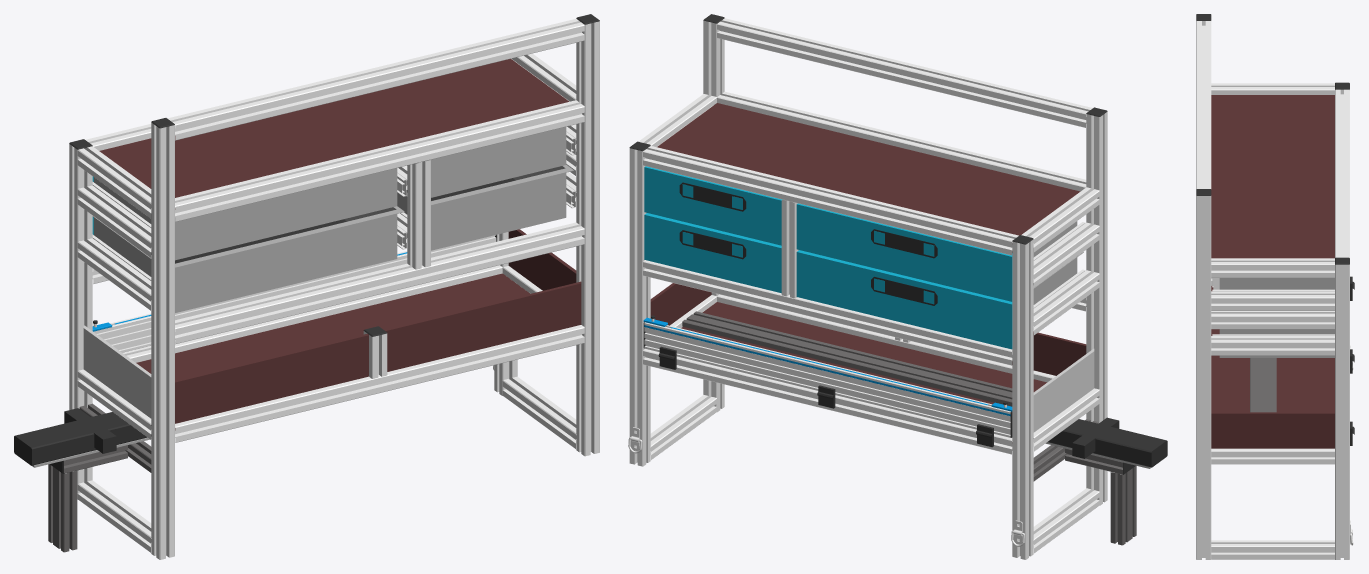
File: vd_export_prepazka_s_ponkem_a_vysuvnym_sverakem_ma_9494dabe.glb
3 views of the same model, side by side, from view 1: azimuth 30°, elevation 25°; view 2: azimuth 150°, elevation 25°; view 3: azimuth 270°, elevation 25° (orthographic). The views are drawn at different scales.
Parts seen in each view (by area): view 1: 2suplikyocel20-20kg1301282459, PR10_1266x395_2, 45x45x1700_noha_2, 45x45x1267_Zx2, 45x45x1267_Zx2_5, 45x45x1267_Zx2_2_2, PR10_1266x395, 45x45x1700_noha_2_2, PR10_635x130_2, PR10_635x130, 45x45x1267_Zx2_2, 45x45x1700_noha (+21 smaller); view 2: drawer_2, PR10_1266x395_2, 20x80x1258_2, 45x45x1267_Zx2, 45x45x1267_Zx2_2_3, 45x45x1700_noha, 45x90x200_Zx2, 45x45x1267_Zx2_4, 45x45x1700_noha_2, PR10_1266x395, 45x45x1267_Zx2_3, 45x45x1700_noha_3 (+22 smaller); view 3: PR10_1266x395_2, 45x45x1700_noha_2_2, PR10_1266x395, PR10_395x130, 45x45x1700_noha_3, 45x45x1267_Zx2, 45x45x1267_Zx2_2_3, 2suplikyocel20-20kg1301282459, 45x45x369_Zx2_10, 45x45x369_Zx2_3_2, 45x45x369_Zx2_3_3, 45x45x369_Zx2_6 (+5 smaller).
Boxes of the visible parts, x1,y1,x2,y2 form: 2suplikyocel20-20kg1301282459: (92,127,573,312); PR10_1266x395_2: (99,59,569,209); 45x45x1700_noha_2: (151,122,174,559); 45x45x1267_Zx2: (167,18,584,140); 45x45x1267_Zx2_5: (175,100,584,221); 45x45x1267_Zx2_2_2: (175,222,584,344); PR10_1266x395: (136,273,529,430); 45x45x1700_noha_2_2: (576,21,599,456); PR10_635x130_2: (384,281,581,371); PR10_635x130: (175,333,368,428); 45x45x1267_Zx2_2: (175,325,584,442); 45x45x1700_noha: (69,144,92,499); drawer_2: (644,166,1012,349); PR10_1266x395_2: (657,103,1080,243); 20x80x1258_2: (644,322,1010,437); 45x45x1267_Zx2: (717,18,1092,127); 45x45x1267_Zx2_2_3: (643,146,1018,255); 45x45x1700_noha: (1012,239,1033,559); 45x90x200_Zx2: (682,311,1012,406); 45x45x1267_Zx2_4: (643,260,1012,365); 45x45x1700_noha_2: (1086,112,1107,505); PR10_1266x395: (681,302,1046,442); 45x45x1267_Zx2_3: (643,349,1012,454); 45x45x1700_noha_3: (629,148,650,466); PR10_1266x395_2: (1211,95,1334,258); 45x45x1700_noha_2_2: (1196,196,1211,559); PR10_1266x395: (1211,286,1334,412); PR10_395x130: (1211,412,1334,448); 45x45x1700_noha_3: (1335,264,1349,559); 45x45x1267_Zx2: (1196,21,1211,188); 45x45x1267_Zx2_2_3: (1335,89,1349,257); 2suplikyocel20-20kg1301282459: (1213,278,1334,357); 45x45x369_Zx2_10: (1211,540,1334,559); 45x45x369_Zx2_3_2: (1211,291,1334,310); 45x45x369_Zx2_3_3: (1211,336,1334,355); 45x45x369_Zx2_6: (1211,258,1334,277).
Bounding box in the file's own units: 1565 × 1203 × 473.
